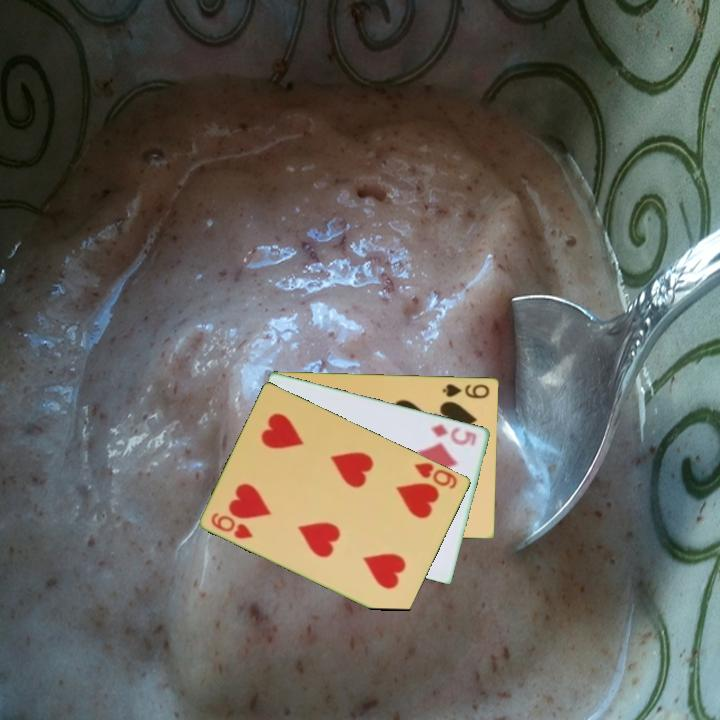5d: (427, 421, 480, 449)
6h: (411, 459, 461, 492), (208, 509, 256, 542)
9s: (439, 380, 492, 401)
